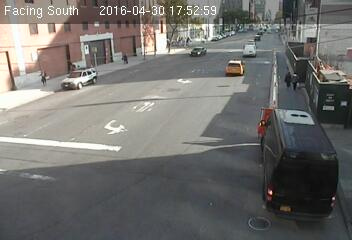neg: (257, 120, 292, 167), (247, 193, 282, 239), (311, 154, 341, 193), (302, 28, 326, 61), (312, 78, 330, 102), (290, 108, 304, 127), (223, 54, 237, 72), (178, 34, 190, 51)
pos: (291, 71, 307, 93), (278, 70, 293, 90), (37, 69, 51, 88), (120, 50, 132, 66)
